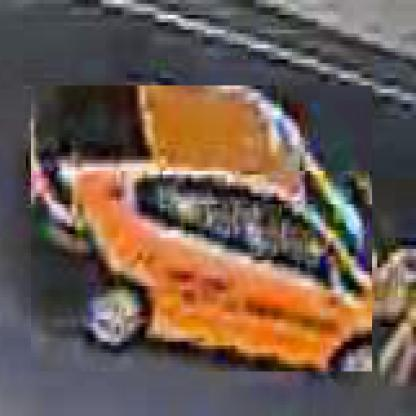car: (29, 87, 373, 376)
